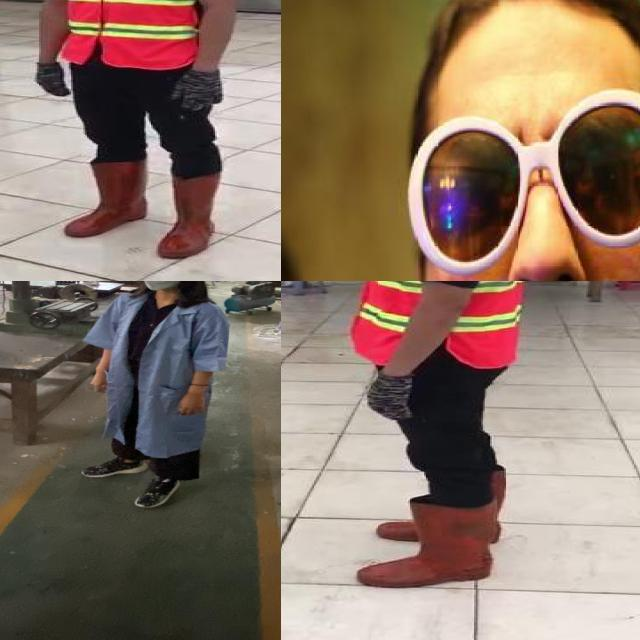boots: (353, 498, 492, 588), (66, 160, 149, 236), (154, 174, 226, 261)
face_mask: (133, 281, 184, 290)
face_nomask: (417, 108, 640, 281)
glasses: (400, 92, 640, 272)
hand_glove: (366, 372, 422, 422), (171, 68, 231, 113), (32, 62, 74, 97)
hand_noglove: (175, 394, 206, 417), (89, 374, 112, 394)
head_nohelmet: (422, 0, 640, 51)
person: (315, 281, 539, 597), (24, 0, 252, 262), (77, 281, 233, 511)
shoes: (76, 454, 152, 479), (132, 475, 186, 507)
vest: (49, 0, 209, 67), (449, 281, 541, 370), (349, 281, 427, 369)
